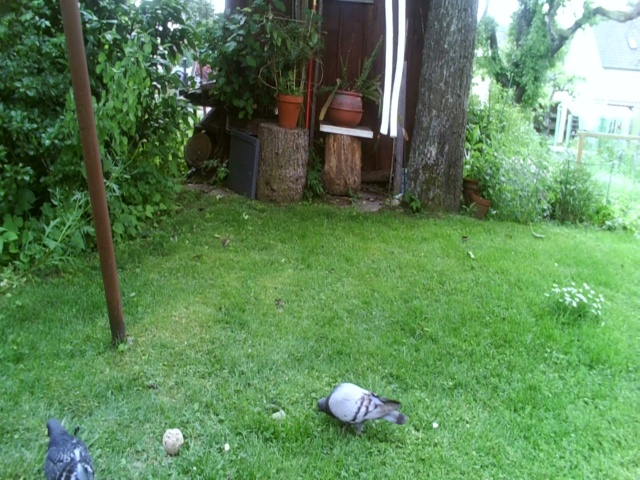Pigeon: (316, 379, 409, 441), (33, 414, 93, 480)
